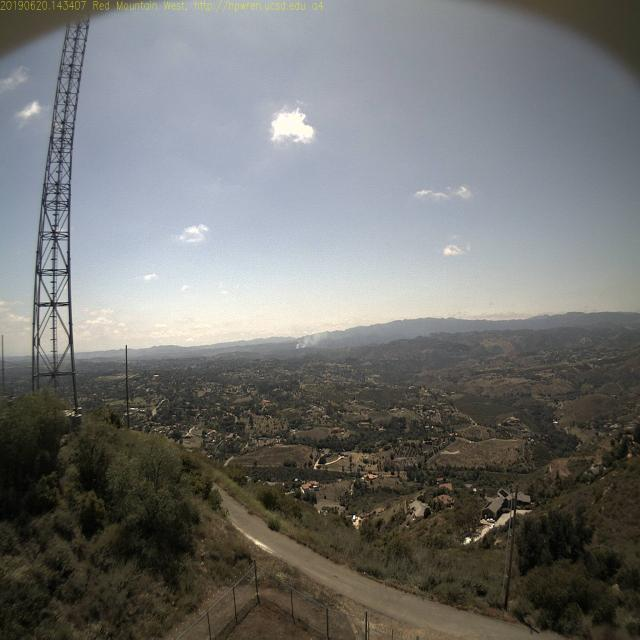smoke: (291, 332, 311, 354)
